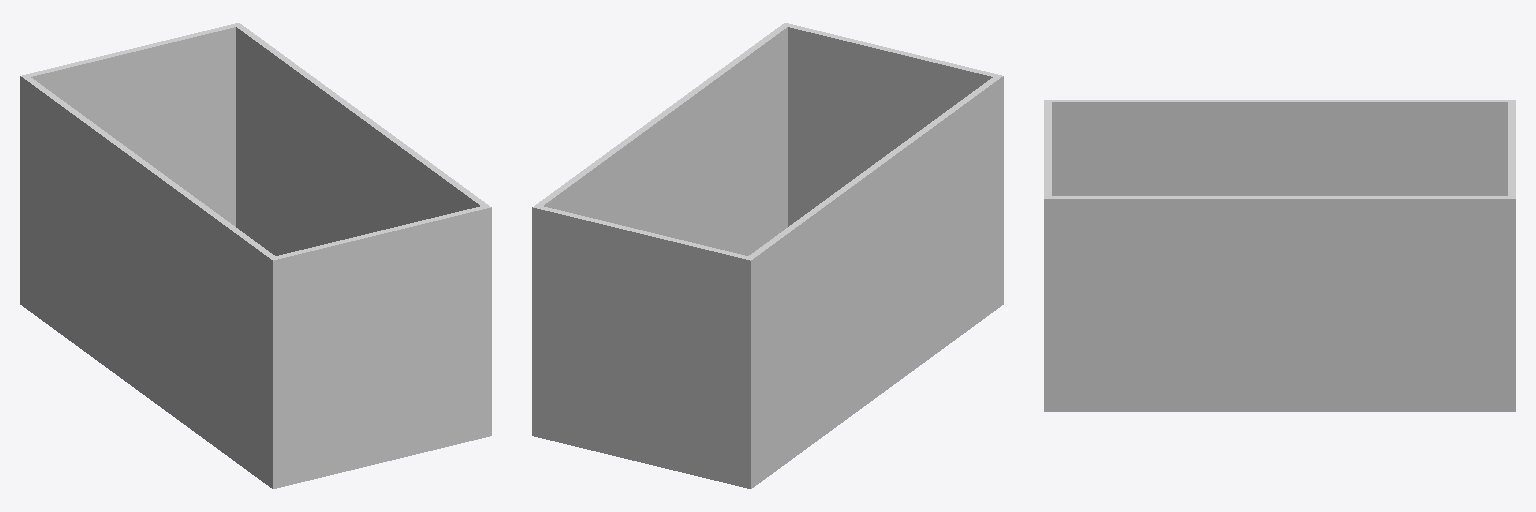
URDF robot description (Box):
<?xml version="1.0" encoding="utf-8"?>
<!-- This URDF was automatically created by SolidWorks to URDF Exporter! Originally created by Stephen Brawner (brawner@gmail.com) 
     Commit Version: 1.6.0-4-g7f85cfe  Build Version: 1.6.7995.38578
     For more information, please see http://wiki.ros.org/sw_urdf_exporter -->
<robot
  name="Box">
  <link
    name="base_link">
    <inertial>
      <origin
        xyz="-7.2519E-17 -0.044 0.071038"
        rpy="0 0 0" />
      <mass
        value="1.8489" />
      <inertia
        ixx="0.043651"
        ixy="-1.7627E-17"
        ixz="5.8423E-18"
        iyy="0.019502"
        iyz="-3.3255E-18"
        izz="0.047456" />
    </inertial>
    <visual>
      <origin
        xyz="0 0 0"
        rpy="0 0 0" />
      <geometry>
        <mesh
          filename="package://Box/meshes/base_link.STL" />
      </geometry>
      <material
        name="">
        <color
          rgba="0.89412 0.89412 0.89412 1" />
      </material>
    </visual>
    <collision>
      <origin
        xyz="0 0 0"
        rpy="0 0 0" />
      <geometry>
        <mesh
          filename="package://Box/meshes/base_link.STL" />
      </geometry>
    </collision>
  </link>
</robot>

--- What the picture shows (computed from the rendered views, not written in the file) ---
3 views of the same robot in one strip: view 1: azimuth 30°, elevation 25°; view 2: azimuth 150°, elevation 25°; view 3: azimuth 270°, elevation 25° (orthographic).
Robot: Box — 1 links, 0 joints (none); root link base_link; default pose: every joint at zero.
Visible links, largest first — view 1: base_link; view 2: base_link; view 3: base_link.
Link boxes in pixels (x1=…): base_link: x1=20, y1=23, x2=491, y2=488; base_link: x1=532, y1=23, x2=1003, y2=488; base_link: x1=1044, y1=100, x2=1515, y2=411.
Size in the robot's own frame: 0.2 by 0.4 by 0.2 metres.
1 mesh visuals loaded from 1 distinct referenced files (1 binary STL).
